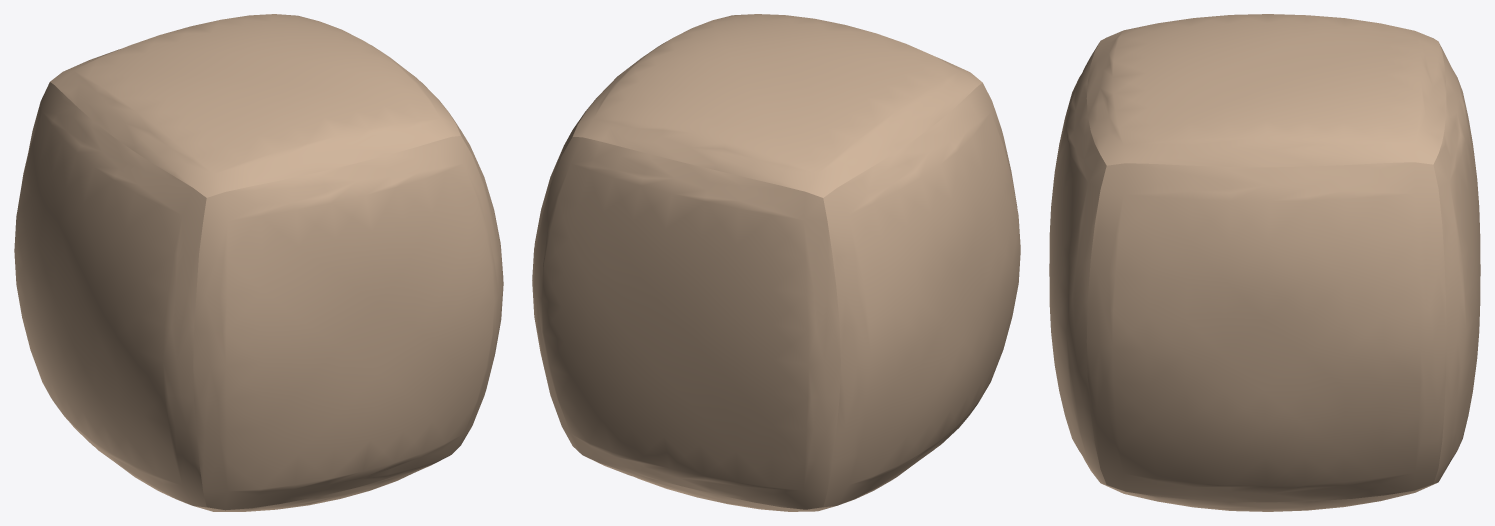
Rendered from AstroHelmet.fbx.
The picture shows the model from 3 angles, left to right: view 1: azimuth 30°, elevation 25°; view 2: azimuth 150°, elevation 25°; view 3: azimuth 270°, elevation 25°; orthographic projection. The views are drawn at different scales.
Visible parts, largest first — view 1: astroHelmet; view 2: astroHelmet; view 3: astroHelmet.
Boxes of the visible parts, x1,y1,x2,y2 form: astroHelmet: (14,14,503,511); astroHelmet: (532,14,1020,511); astroHelmet: (1049,14,1480,511).
Size of the model in its own units: 3.64 by 3.61 by 3.55.
